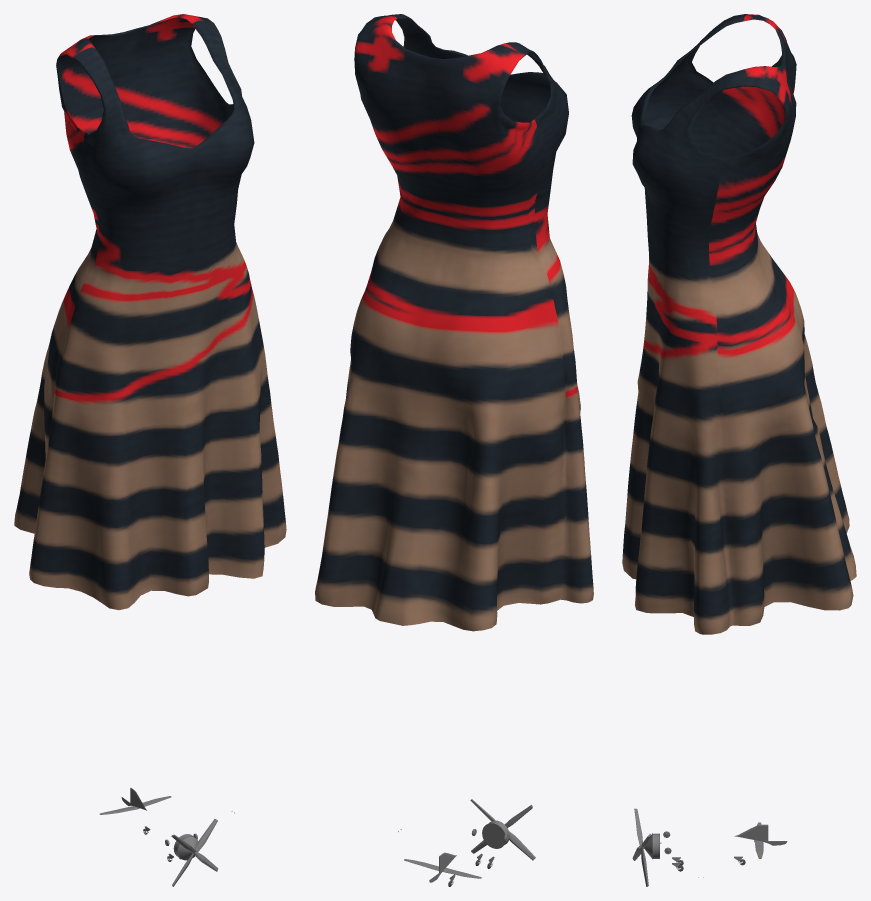
The model's file is generalChange.obj.
The picture shows the model from 3 angles, left to right: view 1: azimuth 30°, elevation 25°; view 2: azimuth 150°, elevation 25°; view 3: azimuth 270°, elevation 25°; orthographic projection. The views are drawn at different scales.
Visible parts, largest first — view 1: qq:Dress group1, pasted__polySurface11 group; view 2: qq:Dress group1, pasted__polySurface11 group, bevelPolygon1; view 3: qq:Dress group1, pasted__polySurface11 group, group pasted__group2 pasted__group5 pasted__polySurface20.
Part boxes in pixels (<box>): qq:Dress group1: <box>14,14,286,610</box>; pasted__polySurface11 group: <box>171,819,218,886</box>; qq:Dress group1: <box>315,14,593,631</box>; pasted__polySurface11 group: <box>470,799,535,860</box>; bevelPolygon1: <box>482,820,509,848</box>; qq:Dress group1: <box>622,14,856,634</box>; pasted__polySurface11 group: <box>632,808,650,886</box>; group pasted__group2 pasted__group5 pasted__polySurface20: <box>734,824,787,845</box>.
Bounding box in the file's own units: 49.45 × 155 × 39.54.
8 materials, 1 textured.
